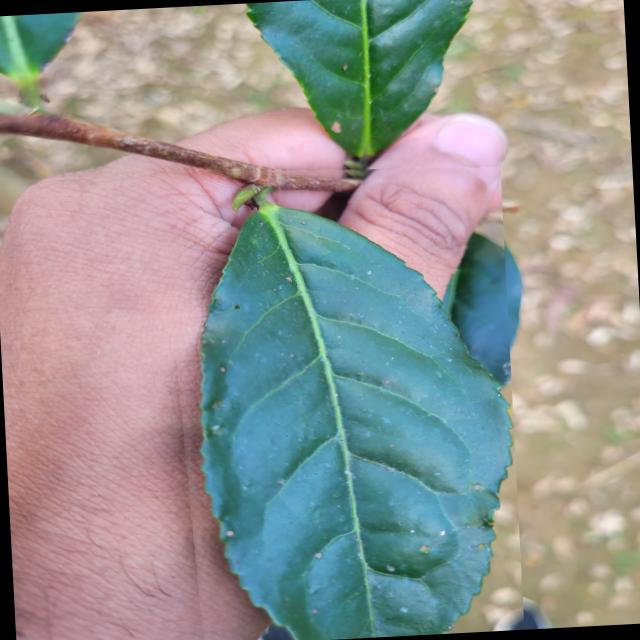Category D 7+ days, Not for Tea: (158, 154, 524, 640)
